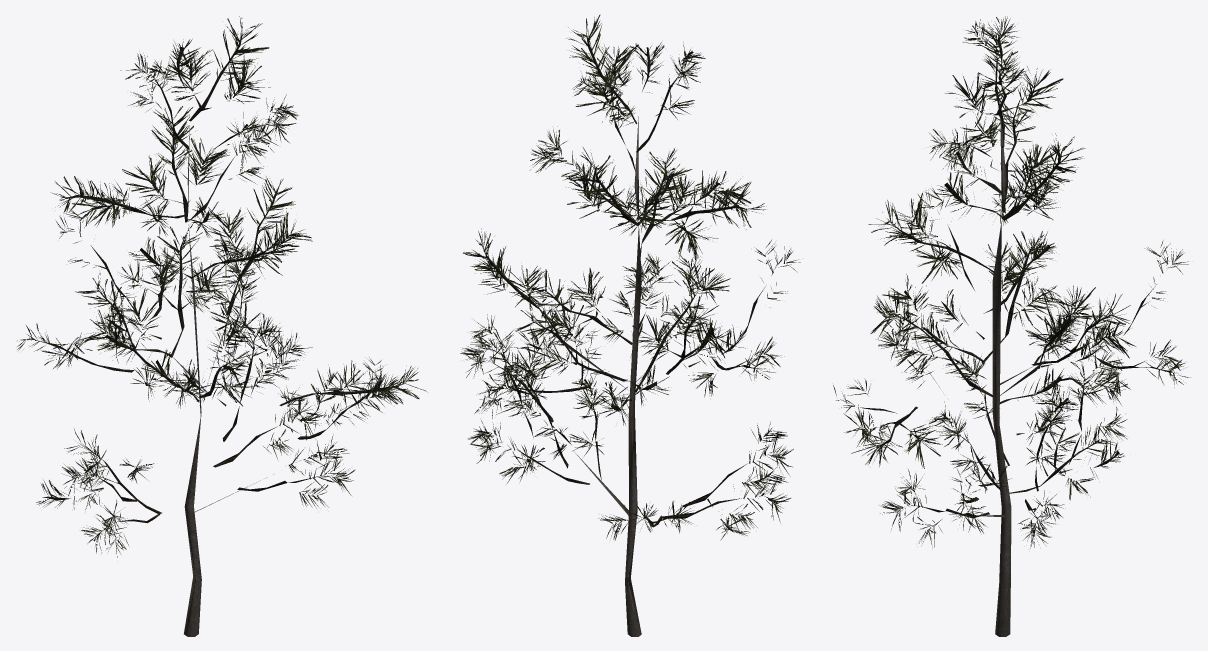
File: pine_sapling_small_a.glb
3 views of the same model, side by side, from view 1: azimuth 30°, elevation 25°; view 2: azimuth 150°, elevation 25°; view 3: azimuth 270°, elevation 25° (orthographic).
Visible parts, largest first — view 1: pine_sapling_small_a__lodS; view 2: pine_sapling_small_a__lodS; view 3: pine_sapling_small_a__lodS.
Part boxes in pixels (x1,y1,x2,y2): pine_sapling_small_a__lodS: (17, 16, 426, 636); pine_sapling_small_a__lodS: (460, 14, 800, 636); pine_sapling_small_a__lodS: (833, 16, 1190, 636).
Size of what is drawn, in the model's own units: 0.7832 by 1.29 by 0.7014.
Materials: 2 (2 with a texture image).
